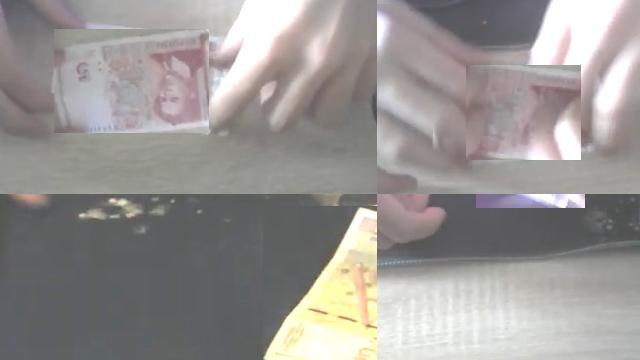10leva: (263, 206, 377, 360)
5leva: (54, 29, 209, 133), (466, 65, 581, 160)
